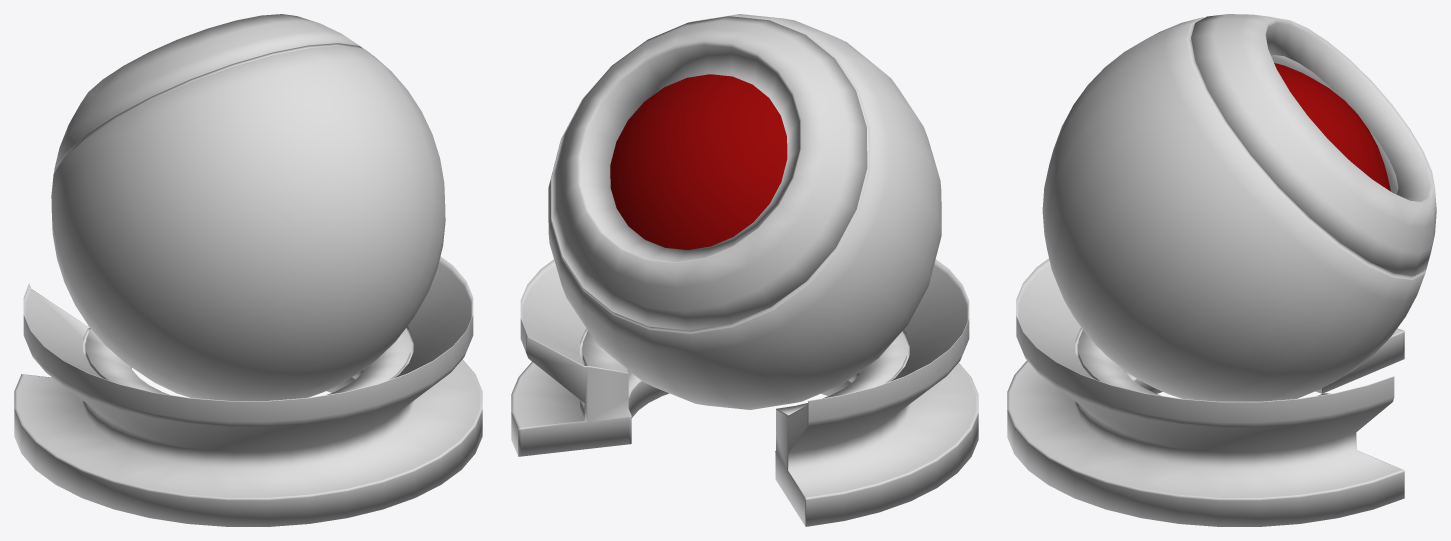
Rendered from mori_knob.FBX.
The picture shows the model from 3 angles, left to right: view 1: azimuth 30°, elevation 25°; view 2: azimuth 150°, elevation 25°; view 3: azimuth 270°, elevation 25°; orthographic projection.
Visible parts, largest first — view 1: OuterMat; view 2: OuterMat; view 3: OuterMat.
Part boxes in pixels (x1=…): OuterMat: x1=14, y1=14, x2=482, y2=526; OuterMat: x1=511, y1=14, x2=978, y2=526; OuterMat: x1=1007, y1=14, x2=1436, y2=526.
Bounding box in the file's own units: 1.08 × 1.02 × 0.9993.
